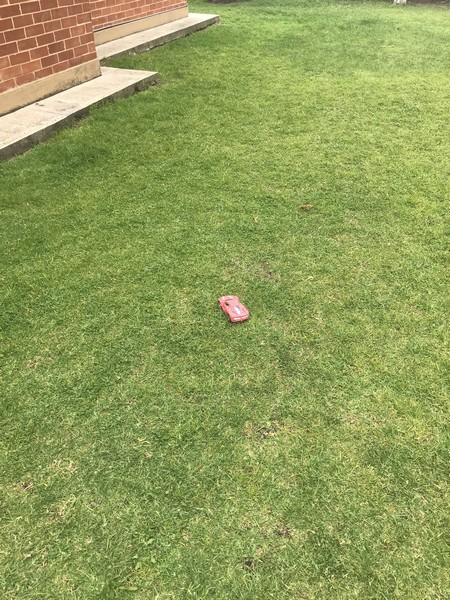RC: (216, 294, 252, 324)
